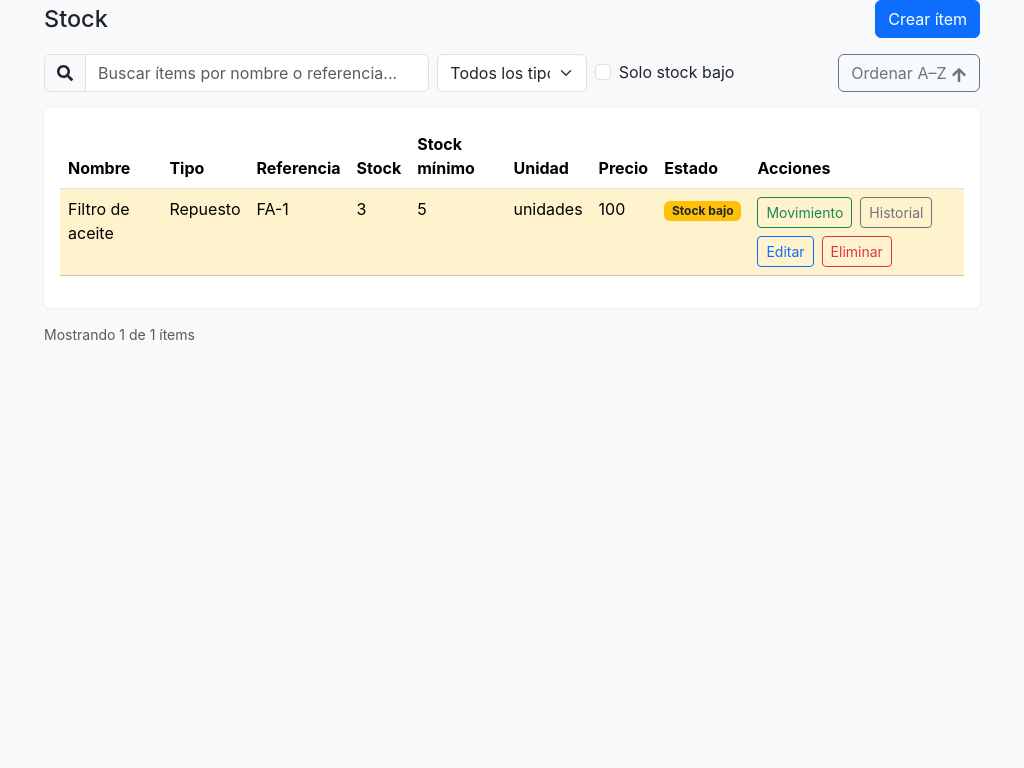
Test: InventarioRepuestosPage › advanced level shows quantities, movement and history actions
Expected: the column heading "Stock mínimo" is shown, [409,124,506,188]
Expected: the text "Stock bajo" is shown, [664,201,741,221]
Click the button with aria-label "Ver historial de Filtro de aceite": point(896, 212) [860,197,932,228]
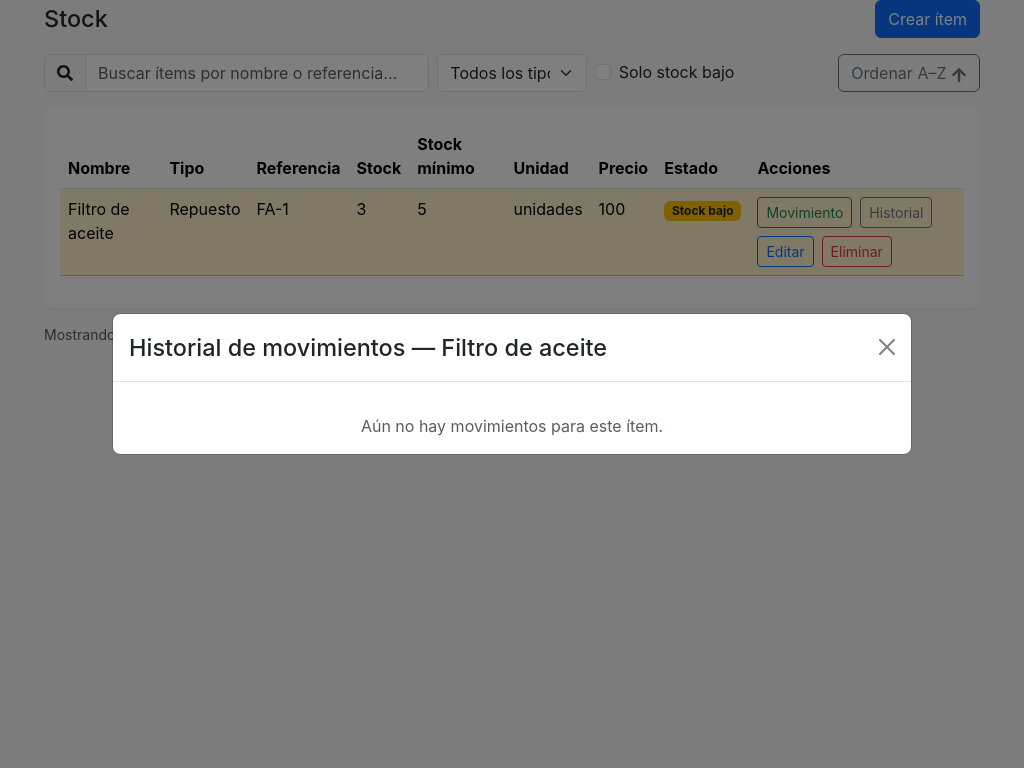
Expected: the text "Historial de movimientos — Filtro de aceite" is shown, [129,330,607,365]
